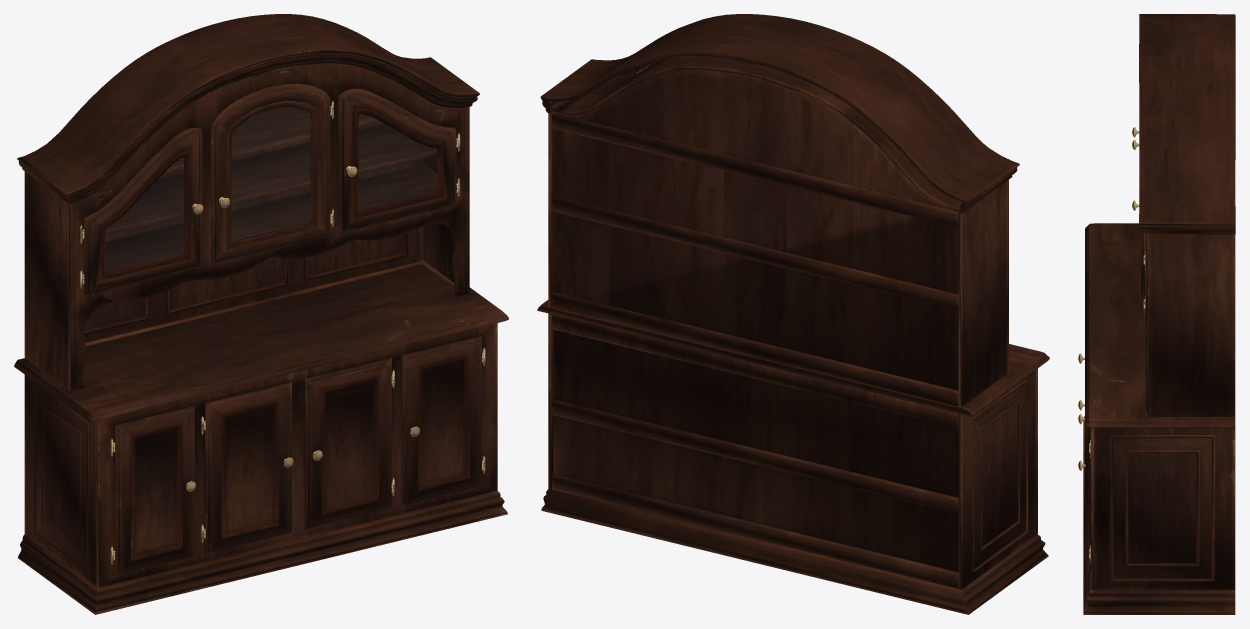
Rendered from vintage_cabinet_01.glb.
3 views of the same model, side by side, from view 1: azimuth 30°, elevation 25°; view 2: azimuth 150°, elevation 25°; view 3: azimuth 270°, elevation 25° (orthographic). The views are drawn at different scales.
Parts seen in each view (by area): view 1: vintage_cabinet_01_body, vintage_cabinet_01_door_01; view 2: vintage_cabinet_01_body; view 3: vintage_cabinet_01_body.
Part boxes in pixels (bbox=[...]): vintage_cabinet_01_body: bbox=[14, 14, 508, 614]; vintage_cabinet_01_door_01: bbox=[106, 107, 436, 271]; vintage_cabinet_01_body: bbox=[537, 14, 1049, 614]; vintage_cabinet_01_body: bbox=[1078, 14, 1235, 614].
Bounding box in the file's own units: 2.02 × 2.23 × 0.6697.
3 materials, 2 textured.
